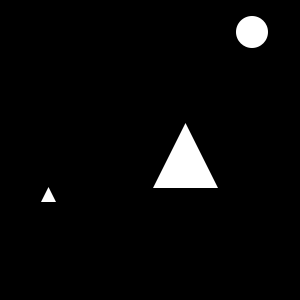rectangle: (236, 16, 268, 48)
triangle: (153, 123, 218, 188), (41, 187, 56, 202)
